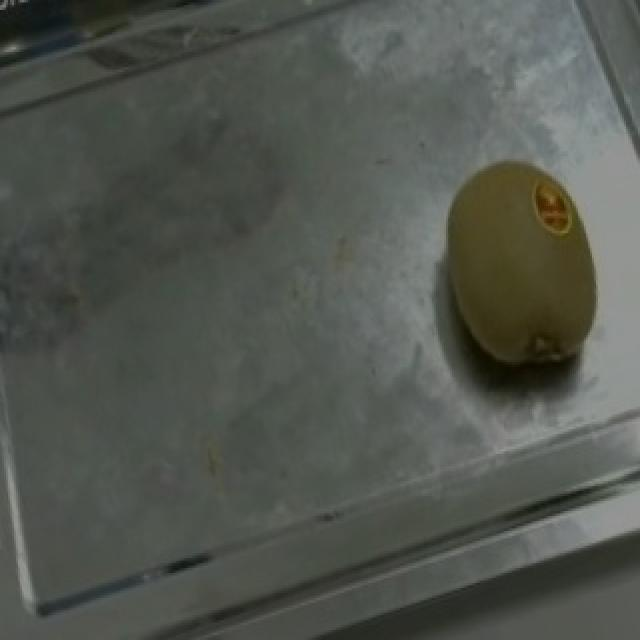Fruit: (404, 131, 638, 407)
